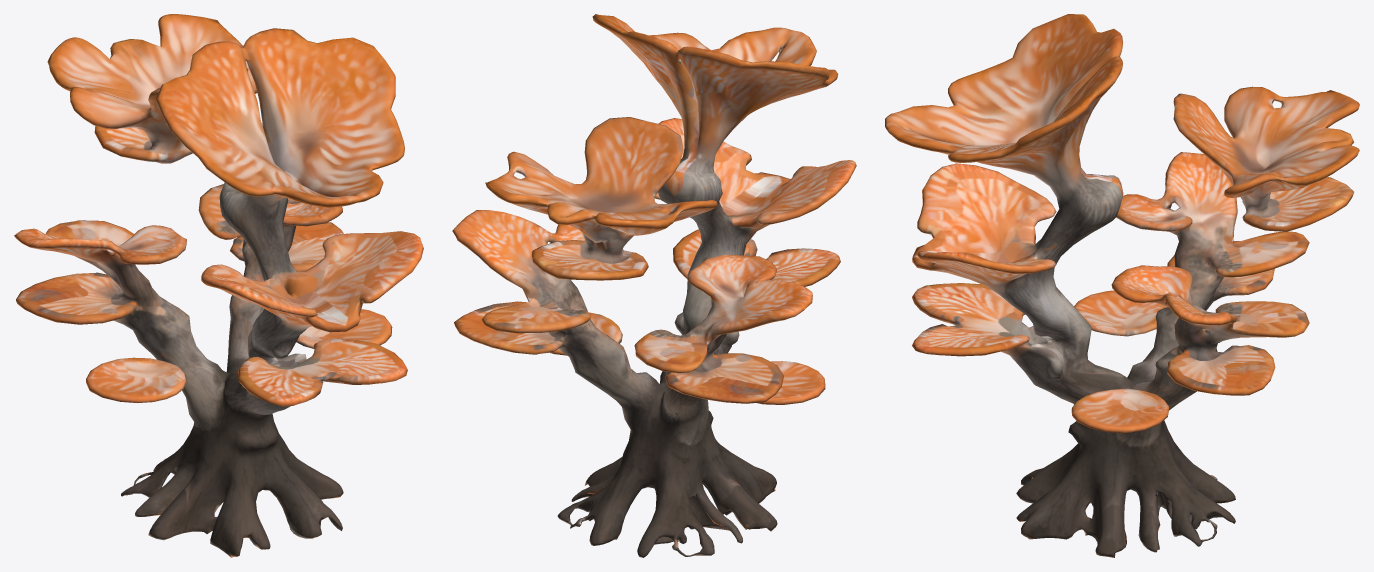
Rendered from base_basic_pbr.fbx.
3 renders of one model, left to right at view 1: azimuth 30°, elevation 25°; view 2: azimuth 150°, elevation 25°; view 3: azimuth 270°, elevation 25°, orthographic. The views are drawn at different scales.
Visible parts, largest first — view 1: model; view 2: model; view 3: model.
Boxes of the visible parts, box(x1,y1,x2,y2) form: model: box(14, 14, 423, 557); model: box(452, 14, 856, 557); model: box(885, 14, 1359, 557).
Size of the model in its own units: 145 by 188 by 174.
Materials: 1 (1 with a texture image).
